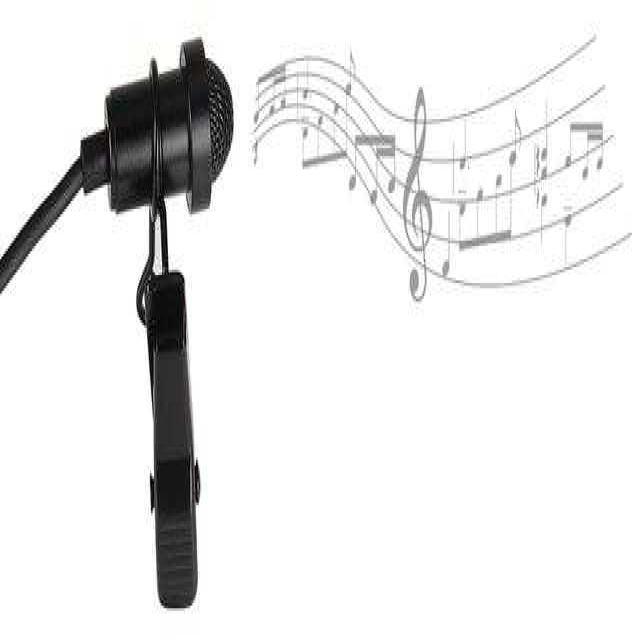microphone: (41, 46, 236, 233)
